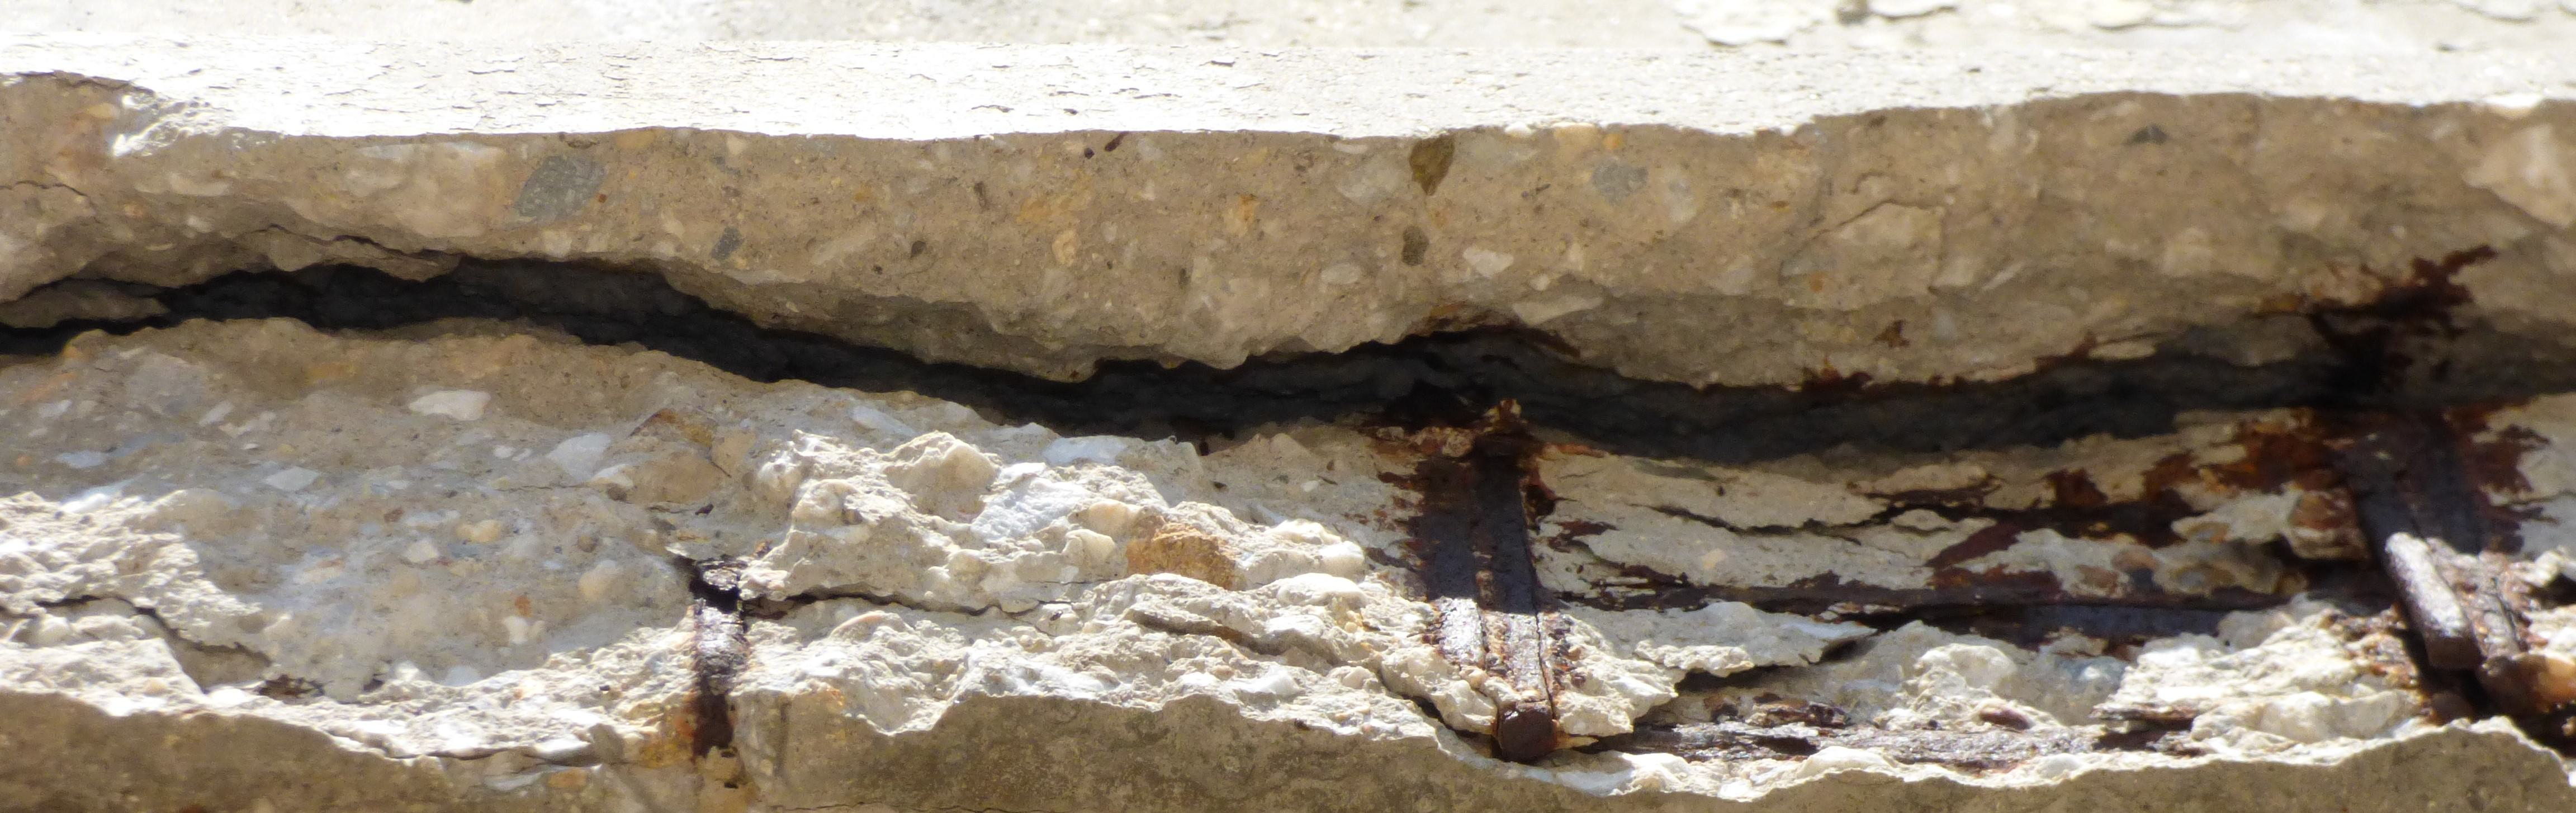Corrosion: (0, 253, 2576, 457), (1625, 450, 2215, 572), (1548, 519, 1707, 616), (695, 591, 744, 757)
Exposed reinforcement: (2397, 401, 2523, 696), (2341, 455, 2484, 672), (1474, 437, 1556, 765), (1707, 586, 2224, 637), (1594, 731, 2167, 764), (1423, 460, 1483, 667)
Spalling: (0, 71, 2576, 813)
